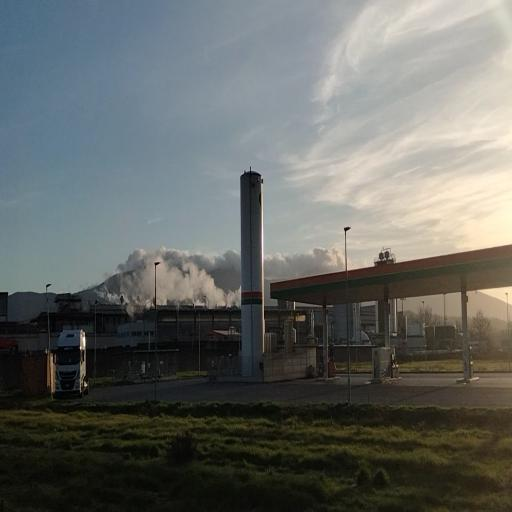leakage: (93, 242, 245, 321)
